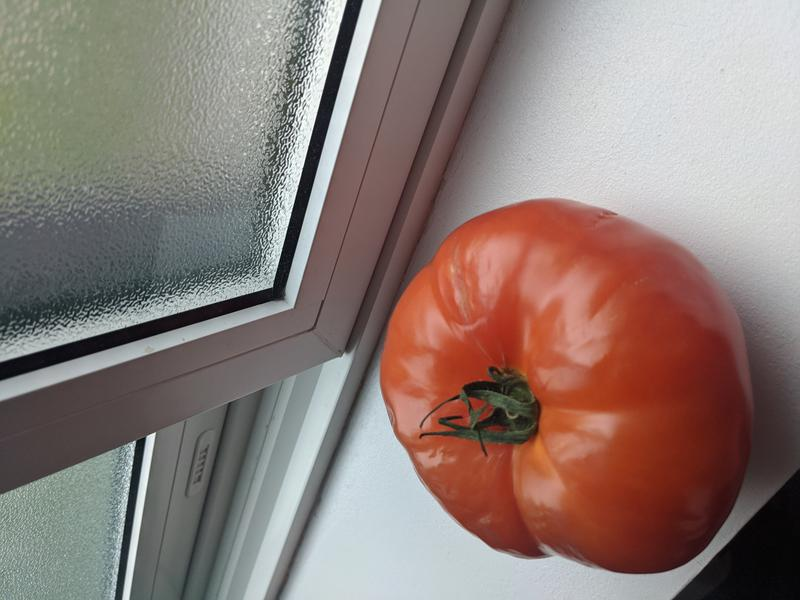tomato: (380, 198, 756, 574)
